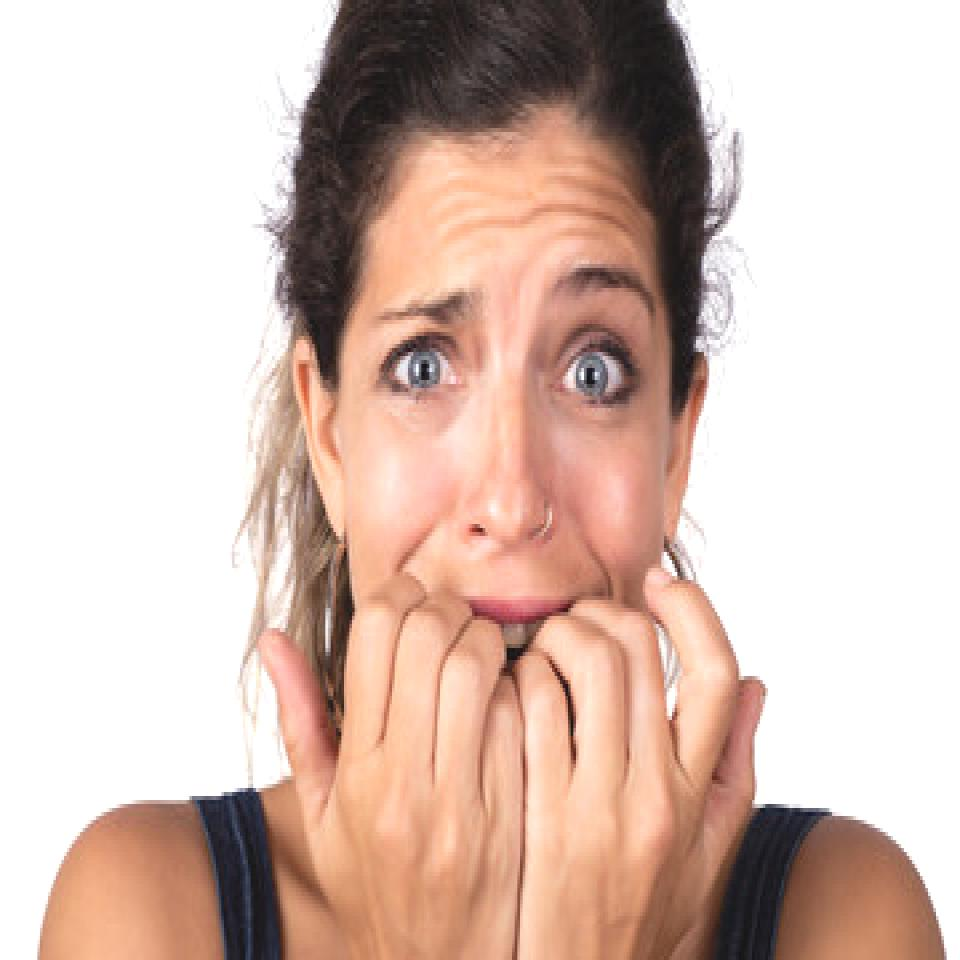Scared: (346, 116, 668, 928)
